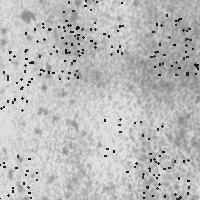pitted_surface: (53, 3, 196, 197), (24, 23, 81, 81), (104, 118, 162, 174), (63, 0, 121, 53), (150, 14, 200, 74), (134, 159, 189, 200), (0, 152, 38, 200), (0, 50, 27, 109)
